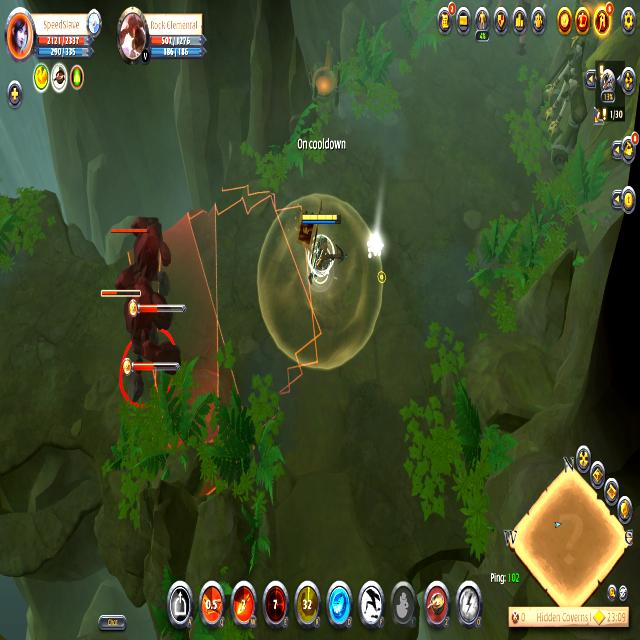ore: (98, 280, 178, 400), (106, 208, 172, 326), (504, 0, 544, 63)
red: (302, 206, 341, 298)
silver: (126, 185, 327, 509)
stone: (366, 230, 385, 271)
